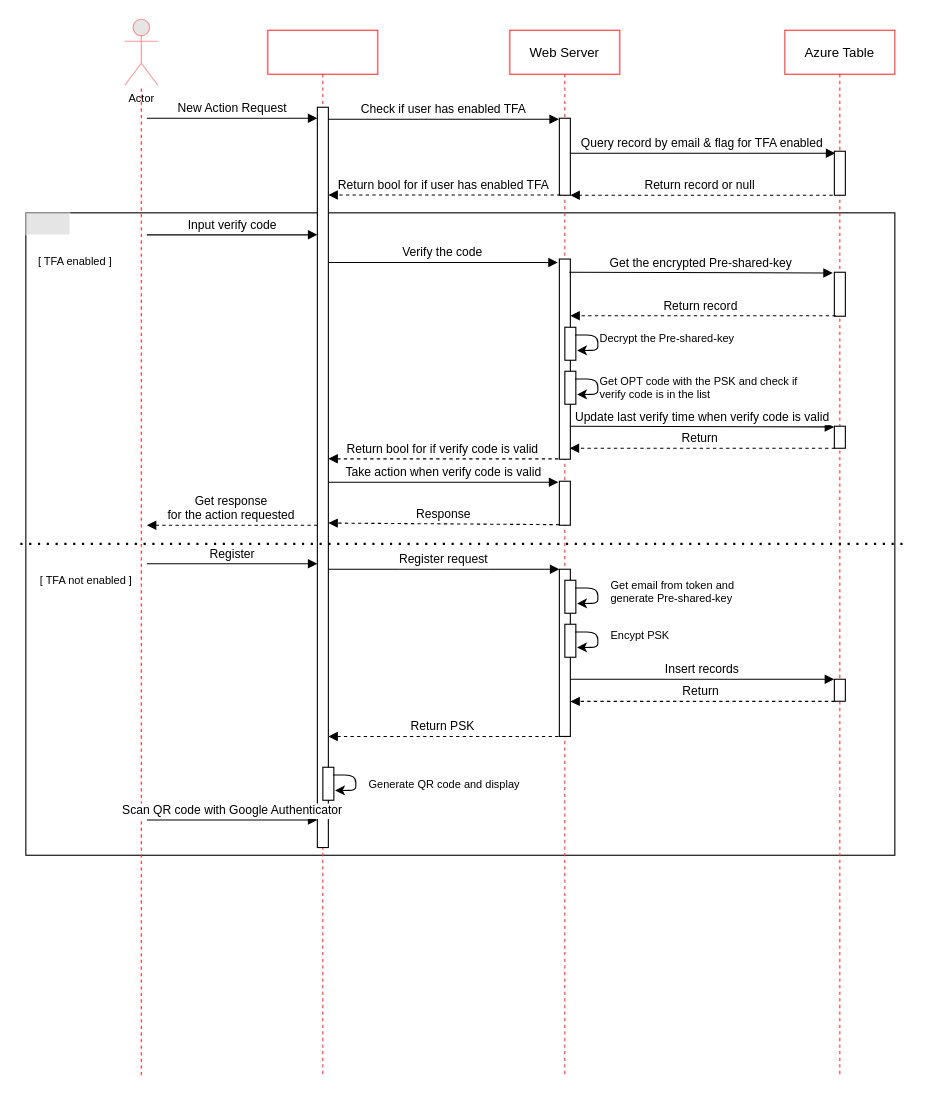
Some shapes in this 930 by 1096 pixel diagram are drawn without their labels. Each missing label, with the centre of its shape:
"Alt" goes at point 47,223.
"Browser" goes at point 322,552.
